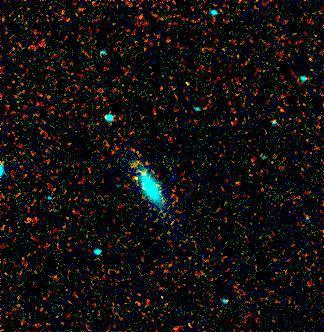star: (120, 163, 150, 193)
